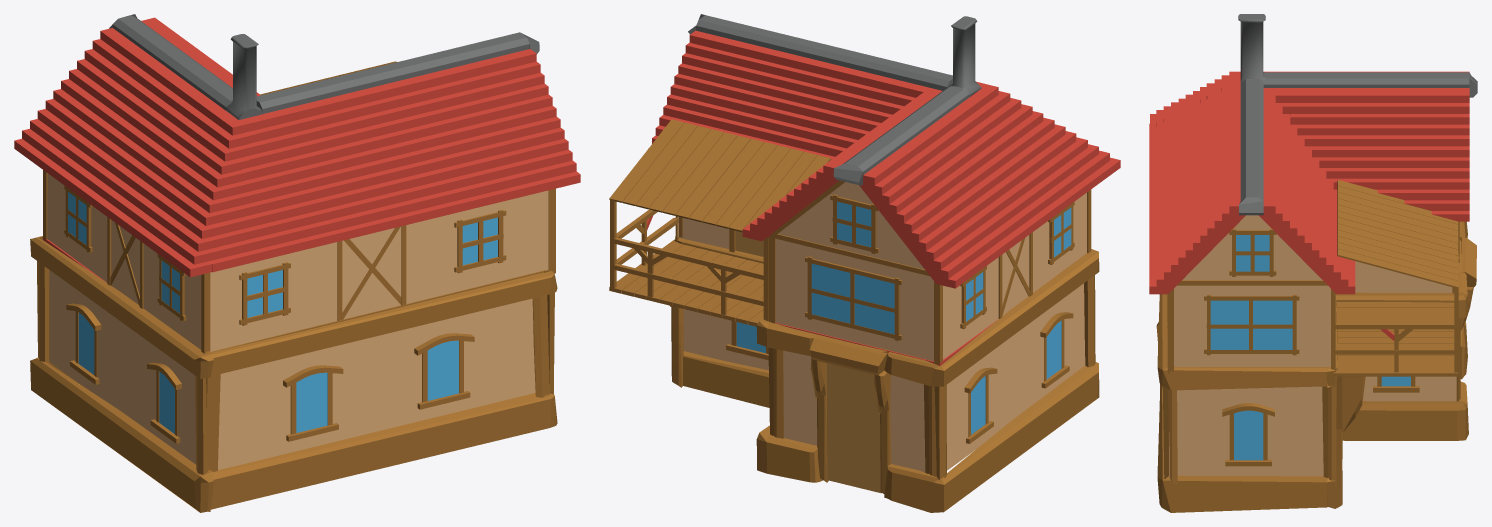
Rendered from House3.fbx.
3 views of the same model, side by side, from view 1: azimuth 30°, elevation 25°; view 2: azimuth 150°, elevation 25°; view 3: azimuth 270°, elevation 25° (orthographic). The views are drawn at different scales.
Parts seen in each view (by area): view 1: House3; view 2: House3; view 3: House3.
Boxes of the visible parts, x1,y1,x2,y2 form: House3: [14, 14, 580, 512]; House3: [609, 14, 1120, 512]; House3: [1149, 14, 1477, 512].
Size of the model in its own units: 700 by 700 by 550.
